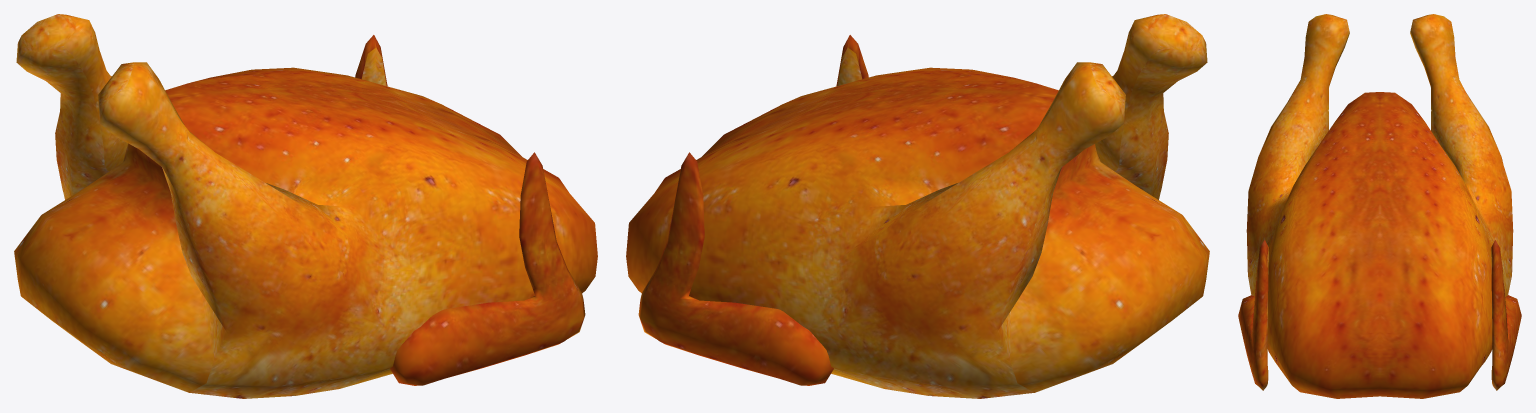
Rendered from sweethome3d-scopia-roasted-chicken-205.glb.
The picture shows the model from 3 angles, left to right: view 1: azimuth 30°, elevation 25°; view 2: azimuth 150°, elevation 25°; view 3: azimuth 270°, elevation 25°; orthographic projection. The views are drawn at different scales.
Visible parts, largest first — view 1: Cube; view 2: Cube; view 3: Cube.
Boxes of the visible parts, x1=… form: Cube: x1=14, y1=14, x2=597, y2=398; Cube: x1=626, y1=14, x2=1209, y2=398; Cube: x1=1238, y1=14, x2=1521, y2=398.
Bounding box in the file's own units: 35.92 × 23.27 × 24.33.
1 material, 1 textured.
